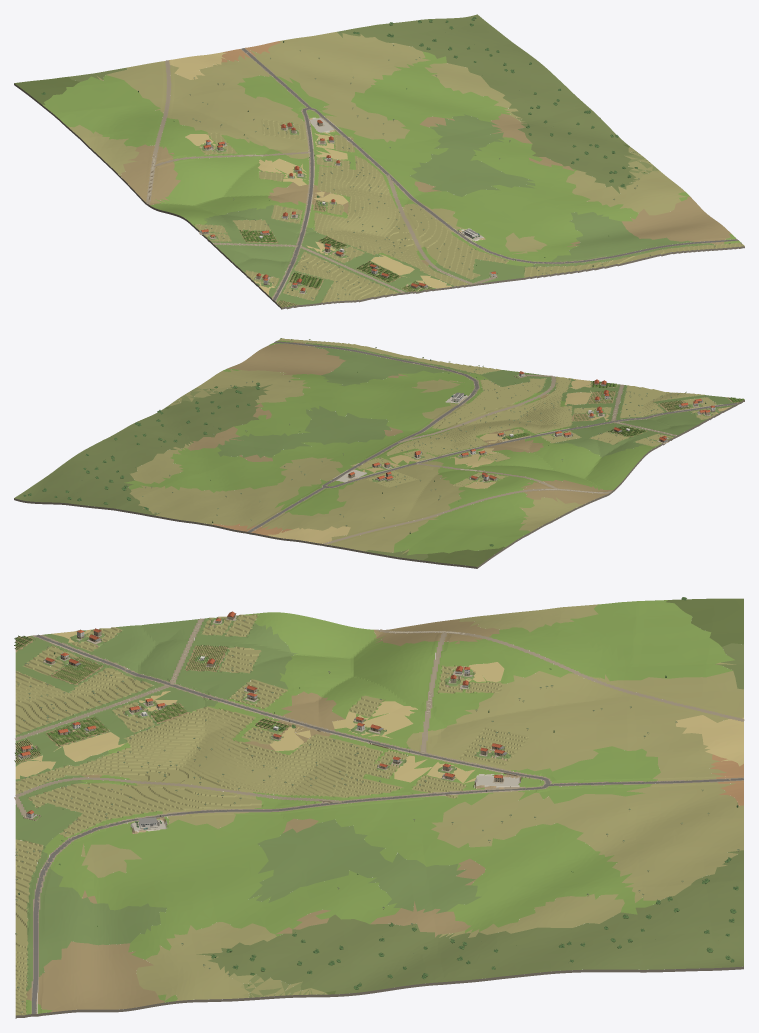
Rendered from parca_+11_-6-yakin.glb.
The picture shows the model from 3 angles, top to bottom: view 1: azimuth 30°, elevation 25°; view 2: azimuth 150°, elevation 25°; view 3: azimuth 270°, elevation 25°; orthographic projection. The views are drawn at different scales.
Visible parts, largest first — view 1: parca_+11_-6_arazi, parca_+11_-6_yollar, parca_+11_-6_yapilar, parca_+11_-6_asma, parca_+11_-6_bitkiler; view 2: parca_+11_-6_arazi, parca_+11_-6_yollar, parca_+11_-6_yapilar, parca_+11_-6_bitkiler, parca_+11_-6_asma; view 3: parca_+11_-6_arazi, parca_+11_-6_yollar, parca_+11_-6_yapilar, parca_+11_-6_asma, parca_+11_-6_bitkiler.
Part boxes in pixels (<box>): parca_+11_-6_arazi: <box>14,14,744,309</box>; parca_+11_-6_yollar: <box>146,48,738,300</box>; parca_+11_-6_yapilar: <box>198,120,496,293</box>; parca_+11_-6_asma: <box>239,200,432,307</box>; parca_+11_-6_bitkiler: <box>41,16,741,299</box>; parca_+11_-6_arazi: <box>14,338,744,568</box>; parca_+11_-6_yollar: <box>248,341,736,544</box>; parca_+11_-6_yapilar: <box>346,371,715,481</box>; parca_+11_-6_bitkiler: <box>23,338,715,546</box>; parca_+11_-6_asma: <box>506,381,744,439</box>; parca_+11_-6_arazi: <box>15,598,743,1018</box>; parca_+11_-6_yollar: <box>14,618,744,1013</box>; parca_+11_-6_yapilar: <box>16,611,506,830</box>; parca_+11_-6_asma: <box>14,635,289,763</box>; parca_+11_-6_bitkiler: <box>15,597,739,1014</box>.
Size of the model in its own units: 1006 by 179 by 1004.
